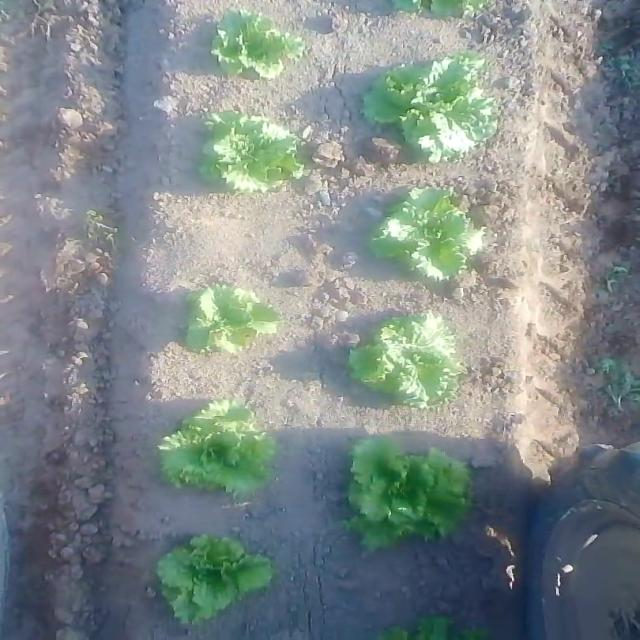Lettuce-Ready-to-Harvest: (363, 56, 499, 164), (348, 435, 471, 548), (350, 310, 462, 408), (367, 187, 480, 282), (161, 401, 273, 496), (156, 534, 274, 624), (199, 109, 305, 196), (183, 284, 280, 358)
